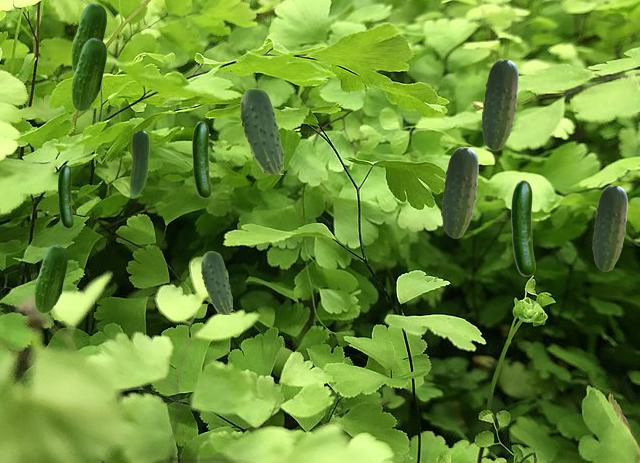cucumber: (240, 88, 282, 173), (481, 59, 517, 149), (441, 147, 477, 237), (592, 185, 626, 270), (71, 38, 105, 110), (71, 3, 105, 72), (511, 180, 534, 275), (34, 245, 66, 312), (201, 251, 231, 313), (192, 121, 210, 197), (130, 130, 148, 197), (58, 165, 72, 227)
